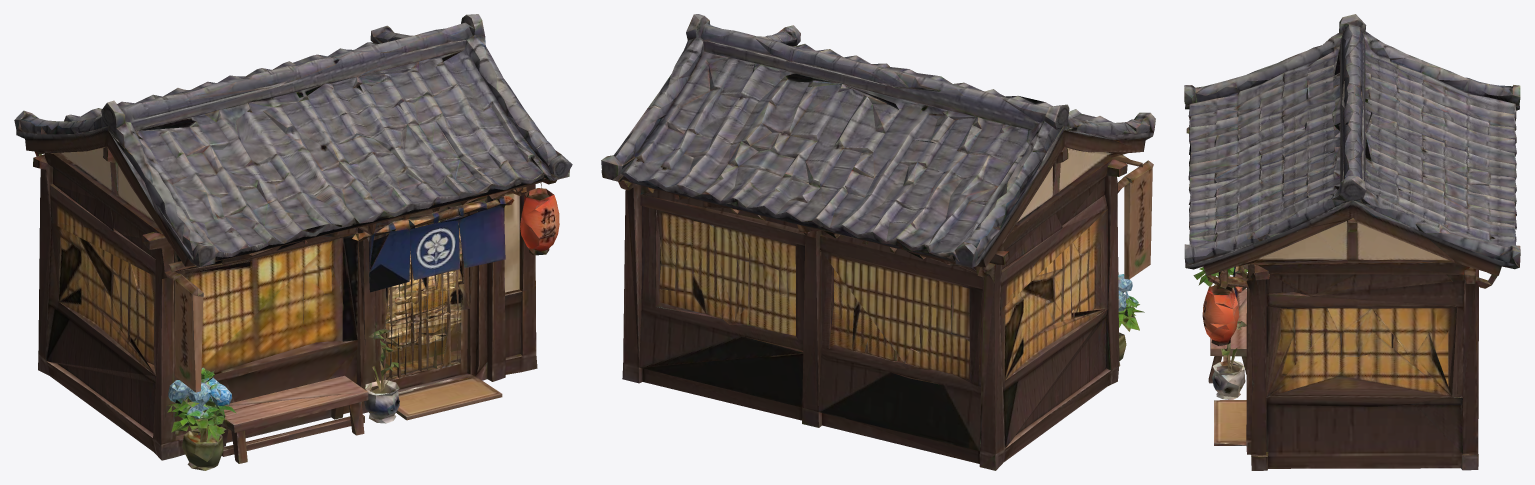
The model's file is noren.glb.
3 renders of one model, left to right at view 1: azimuth 30°, elevation 25°; view 2: azimuth 150°, elevation 25°; view 3: azimuth 270°, elevation 25°, orthographic. The views are drawn at different scales.
Bounding box in the file's own units: 1.9 × 1.46 × 1.53.
1 material, 1 textured.
